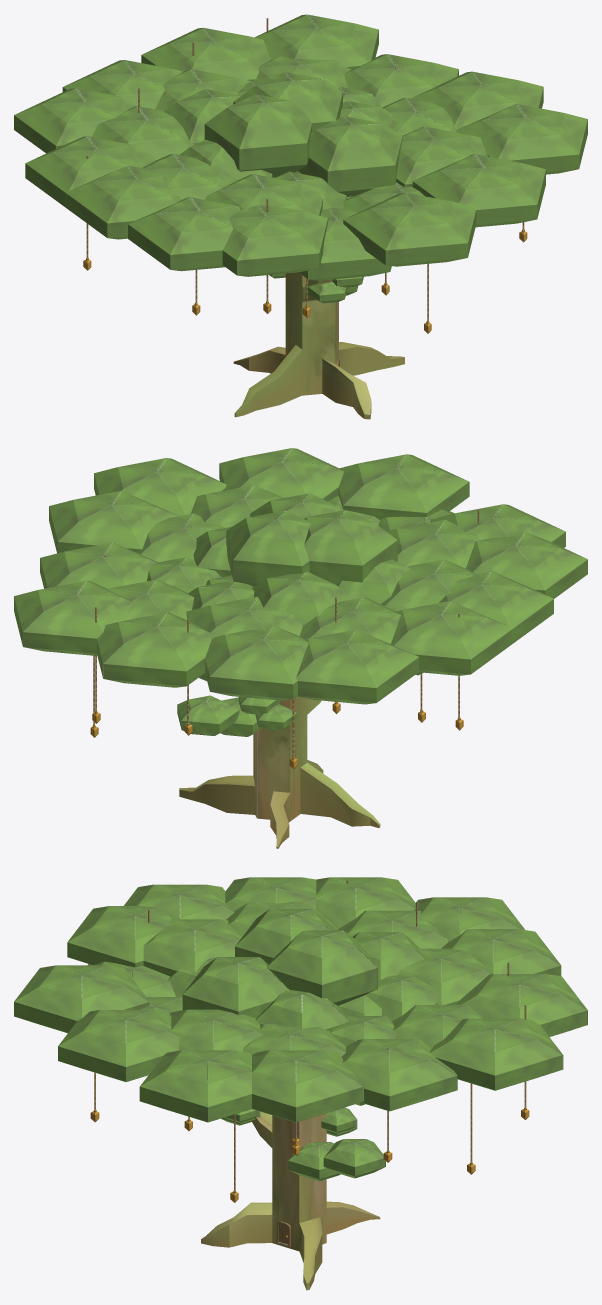
Rendered from AncientTree.fbx.
3 renders of one model, top to bottom at view 1: azimuth 30°, elevation 25°; view 2: azimuth 150°, elevation 25°; view 3: azimuth 270°, elevation 25°, orthographic.
Visible parts, largest first — view 1: pSphere282; view 2: pSphere282; view 3: pSphere282.
Part boxes in pixels (<box>): pSphere282: <box>14,14,587,419</box>; pSphere282: <box>14,448,587,848</box>; pSphere282: <box>14,877,587,1290</box>.
Size of the model in its own units: 18.86 by 11.71 by 20.09.
Materials: 1 (1 with a texture image).
